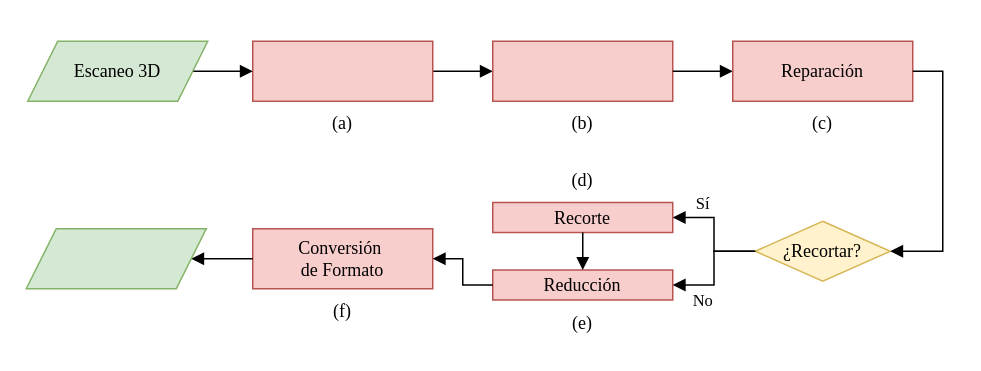
The diagram is 981 pixels wide and 371 high, and some of its shapes have lost their labels. Each missing label, with the centre of its shape:
"Limpieza" belongs at (x=342, y=70).
"Malla Preparada" belongs at (x=115, y=258).
"Remuestreo" belongs at (x=582, y=70).
